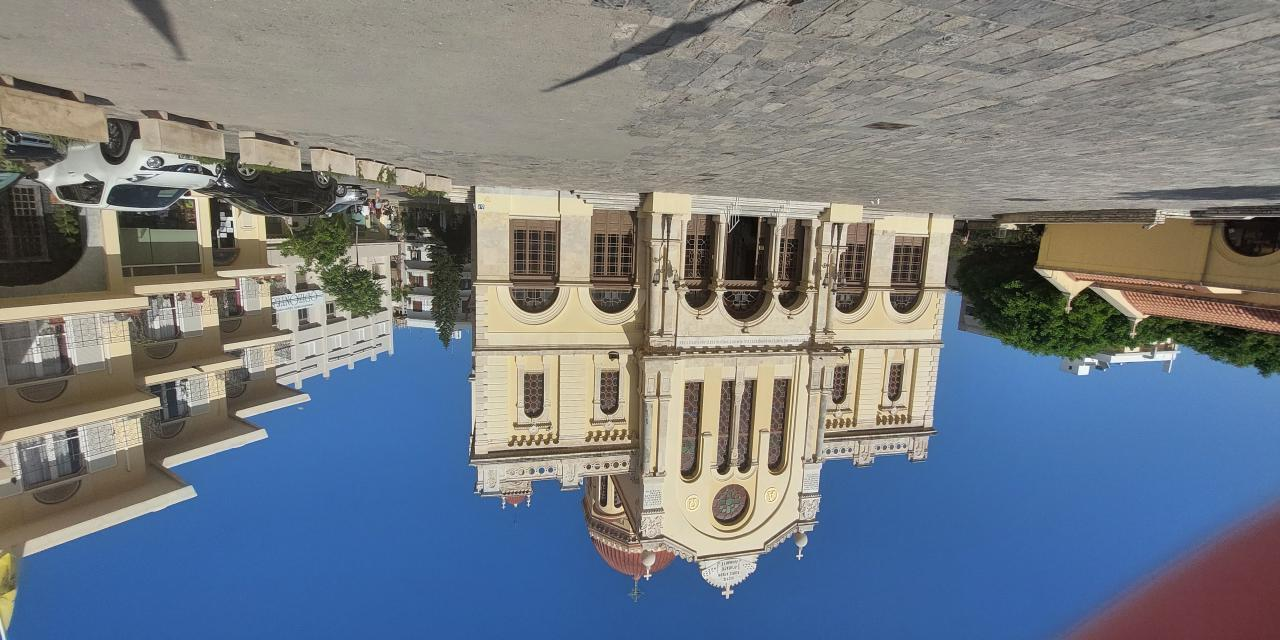Agios Minas: (472, 187, 957, 607)
